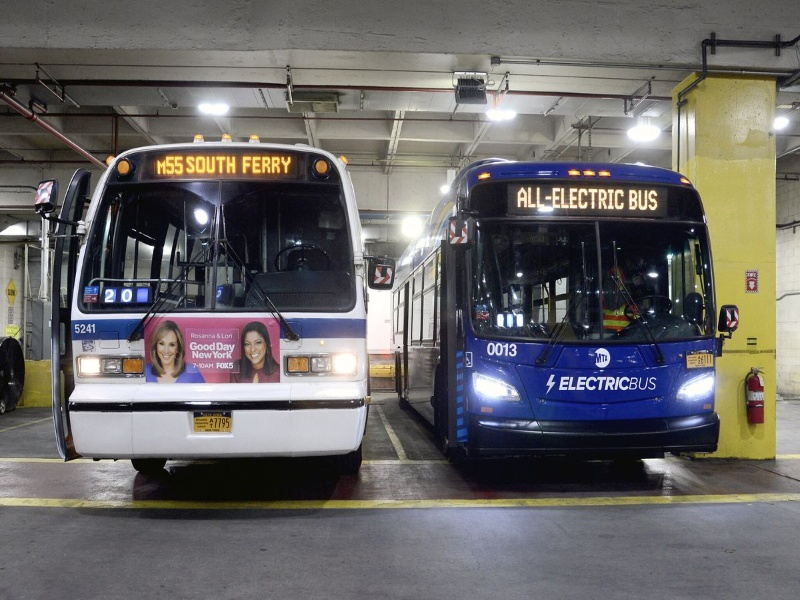bus: (43, 125, 408, 500), (385, 162, 737, 487)
